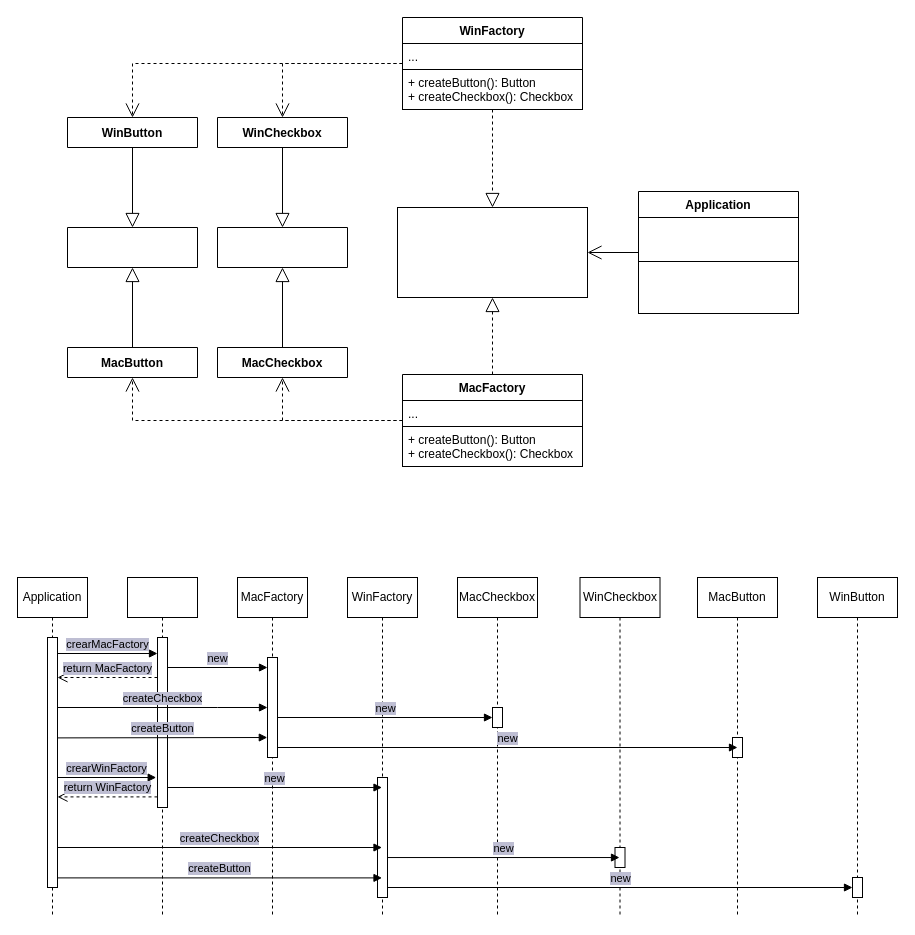
This 915x935 diagram has some shape labels left out. The shapes that lost their labels are listed below. From the top down, each one's centre as x and y in pixels, then its label:
point (132, 247): Button
point (282, 247): Checkbox
point (492, 252): <<Interface>> GUIFactory + createButton(): Button + createCheckbox(): Checkbox
point (718, 239): - factory: GUIFactory - button: Button
point (718, 287): + Application(f: GUIFactory) + createGUIFactory()
point (162, 747): GUIFactory
